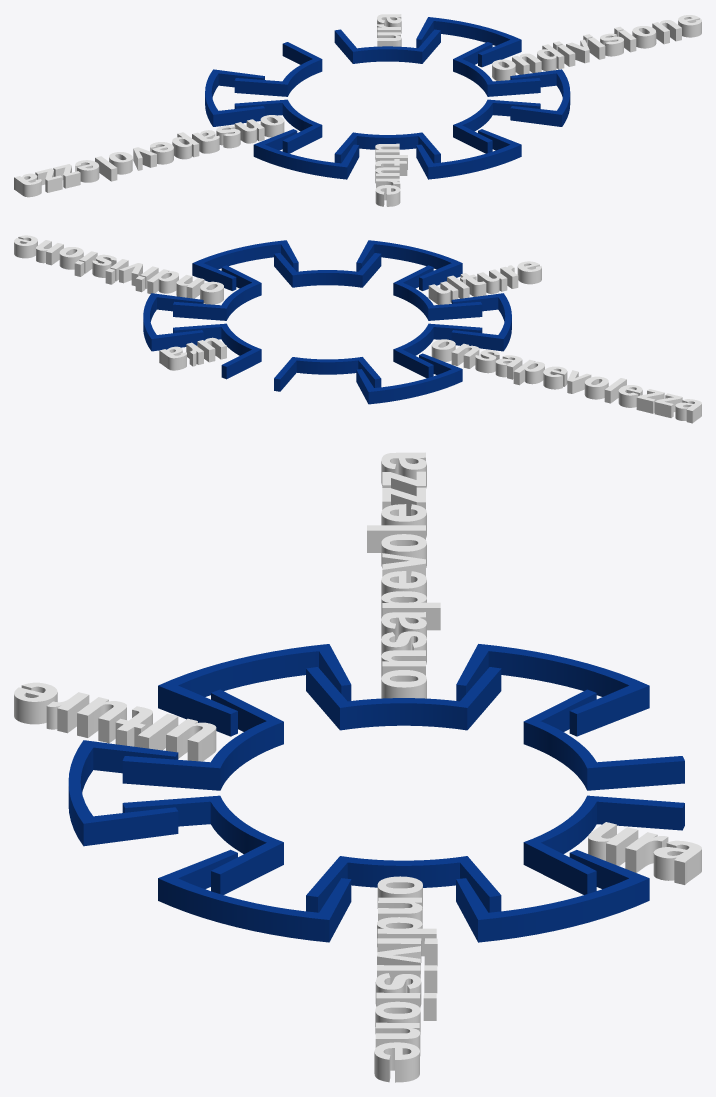
The model's file is oggetto3.obj.
3 views of the same model, one above another, from view 1: azimuth 30°, elevation 25°; view 2: azimuth 150°, elevation 25°; view 3: azimuth 270°, elevation 25° (orthographic). The views are drawn at different scales.
Bounding box in the file's own units: 579 × 10 × 277.
